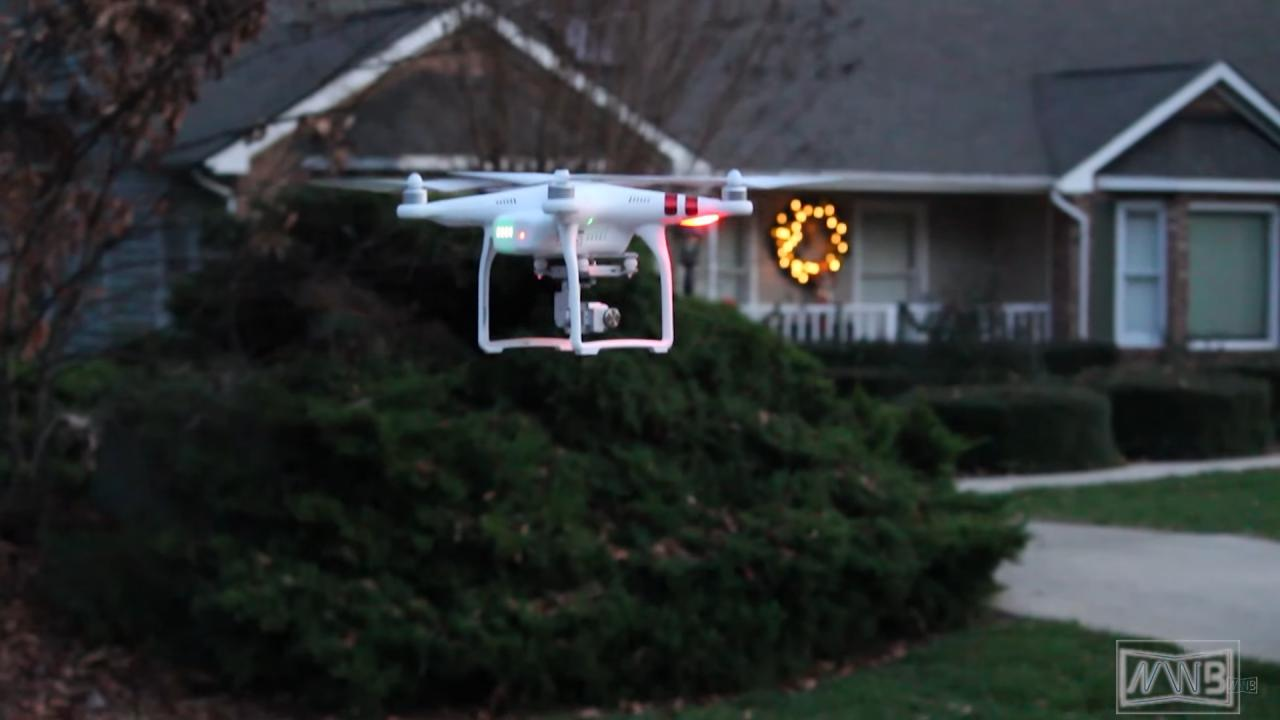Drone: (296, 155, 852, 368)
